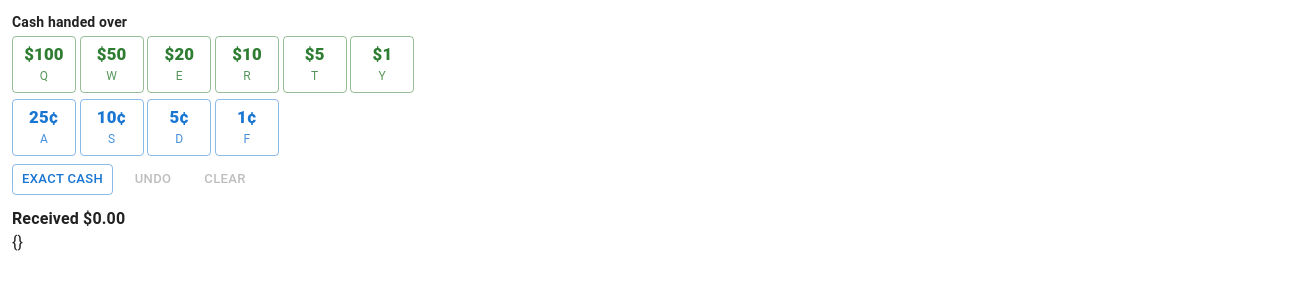
Test: CashTenderPad (2026-10-21, cash by denomination) › taps add bills and Dash says what to give back from the drawer
Click the button with test id "cash-twenties". click: x=179, y=65
box: [147,36,211,93]
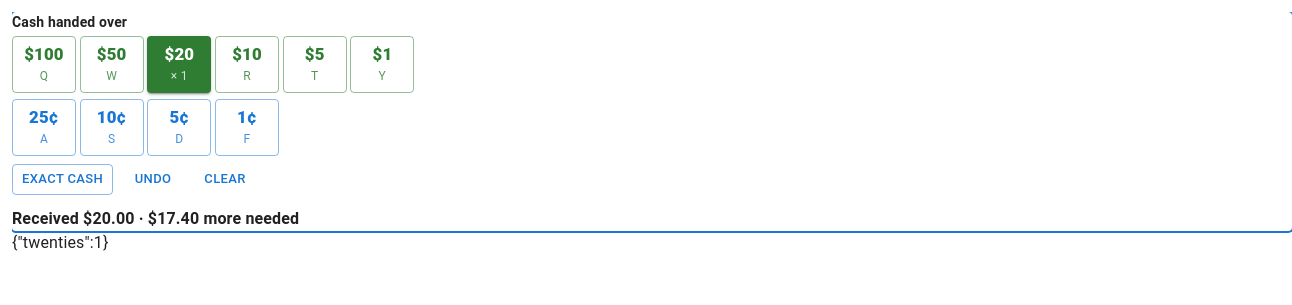
Now the element with test id "cash-summary" shows "$17.40 more needed", box [135,209,299,228]
Click the button with test id "cash-twenties". click: x=179, y=65
box: [147,36,211,93]
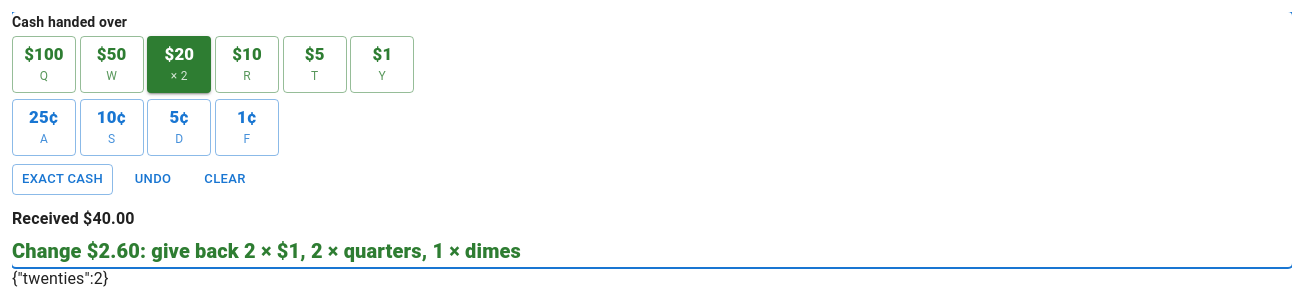
Now the text with test id "state" reads "{\"twenties\":2}", box [12,269,108,288]
Now the element with test id "cash-summary" shows "Received $40.00", box [12,209,521,263]
Now the heading with test id "give-back" reads "Change $2.60: give back 2 × $1, 2 × quarters, 1 × dimes", box [12,239,521,263]
